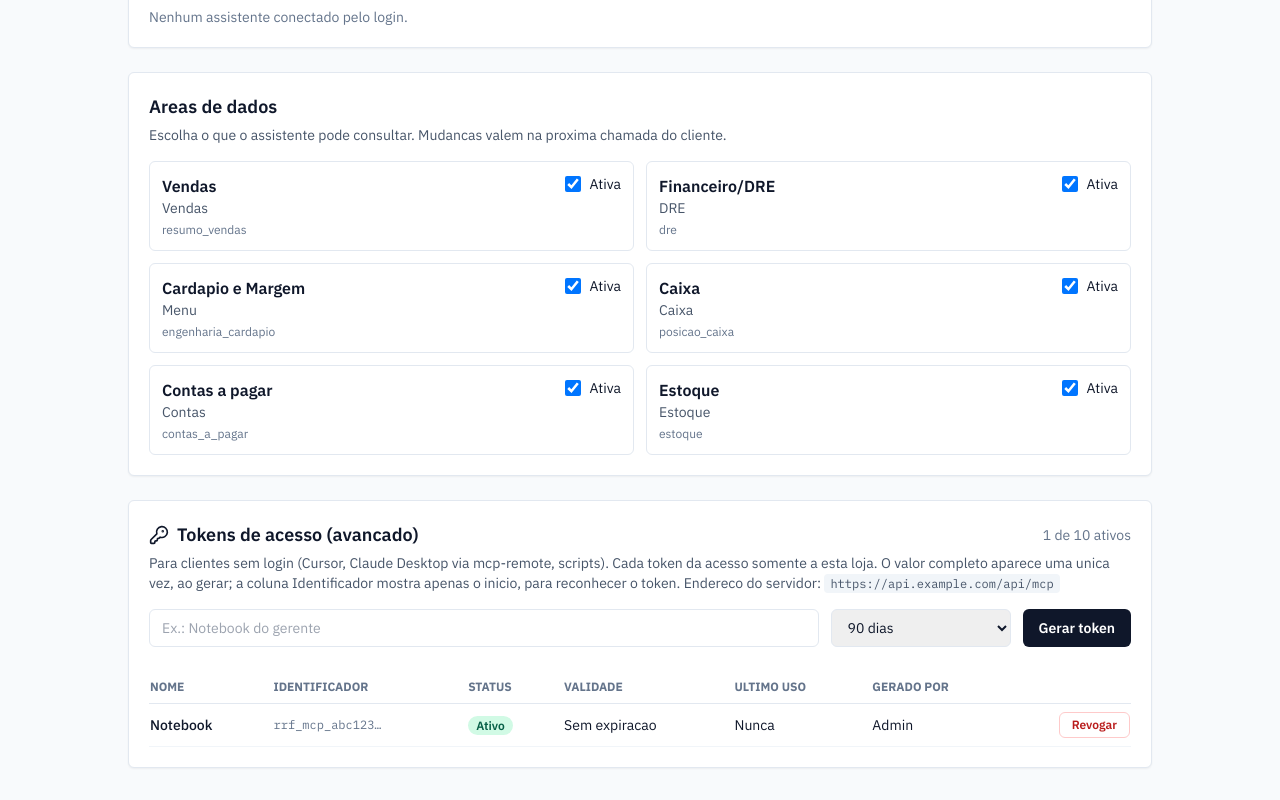
McpSettingsClient › revokes a token after confirmation
(page scrolled)
Click the button "Revogar": (1094, 725) x1=1059 y1=712 x2=1130 y2=738
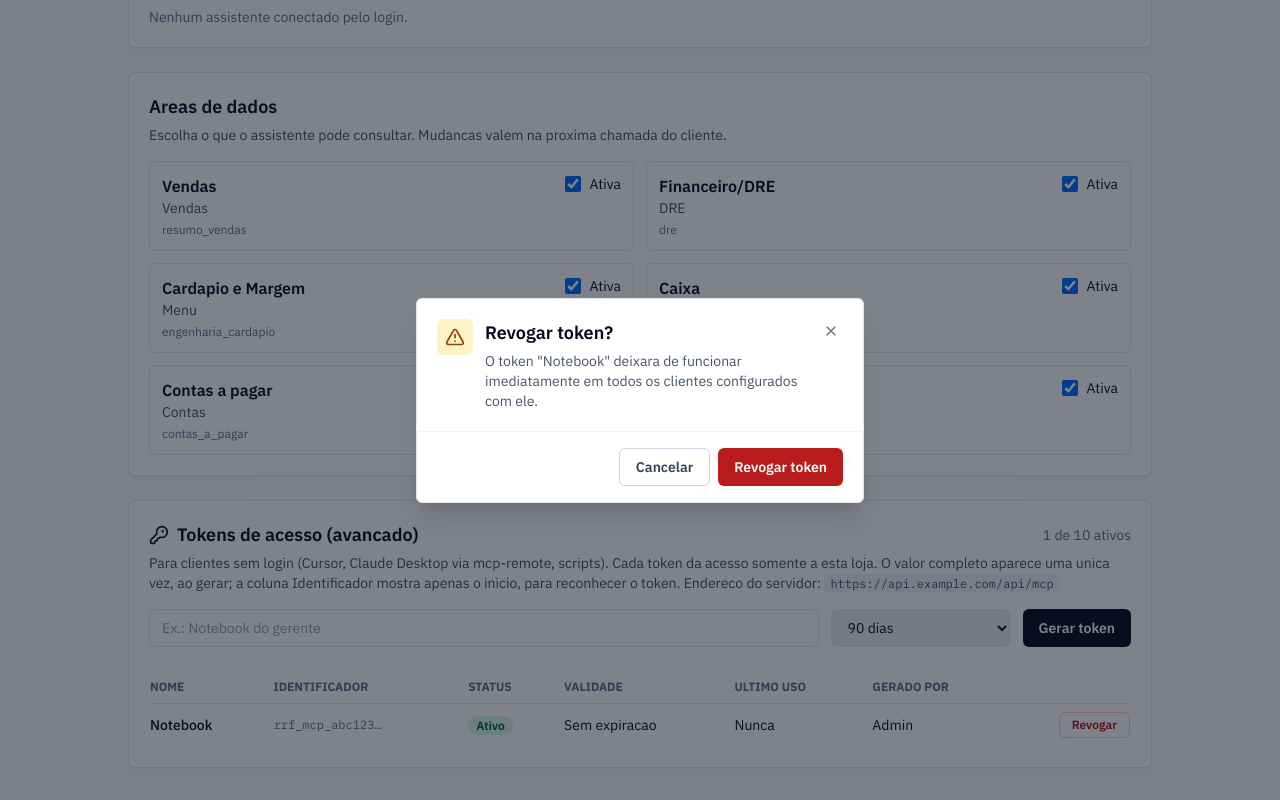
Now the text "Revogar token?" is shown, box x1=485 y1=320 x2=613 y2=344
Click the button "Revogar token": (781, 466) x1=718 y1=448 x2=843 y2=486
(page scrolled)
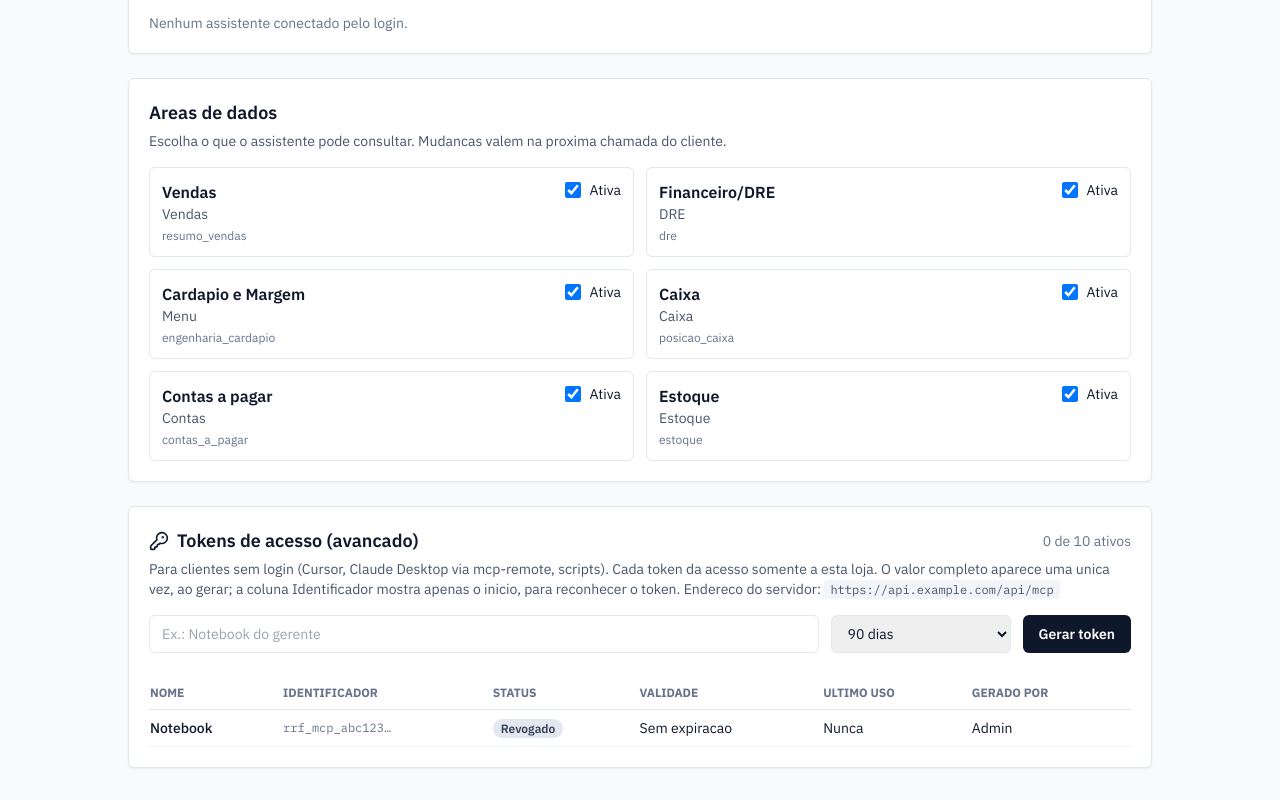
Now the text "Revogado" is shown, box x1=493 y1=719 x2=563 y2=738
Now the text "Revogar token?" is gone
